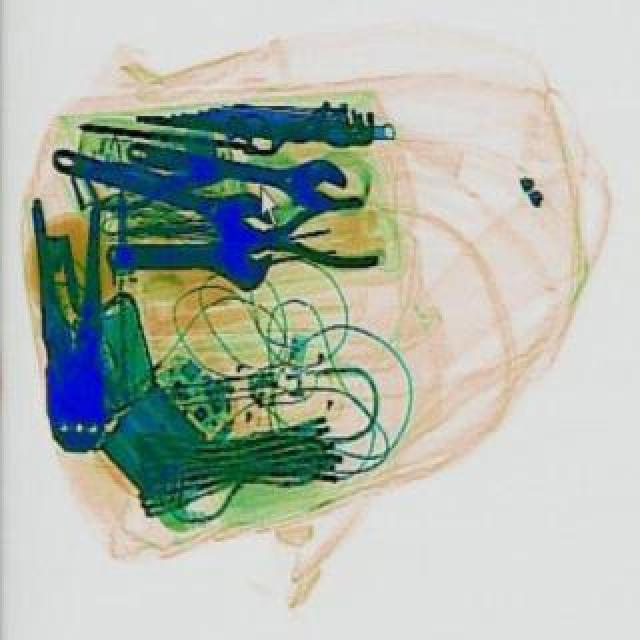scissors: (38, 128, 278, 252), (120, 124, 348, 212), (104, 222, 272, 290)
wrench: (30, 194, 106, 452), (228, 194, 376, 274)
